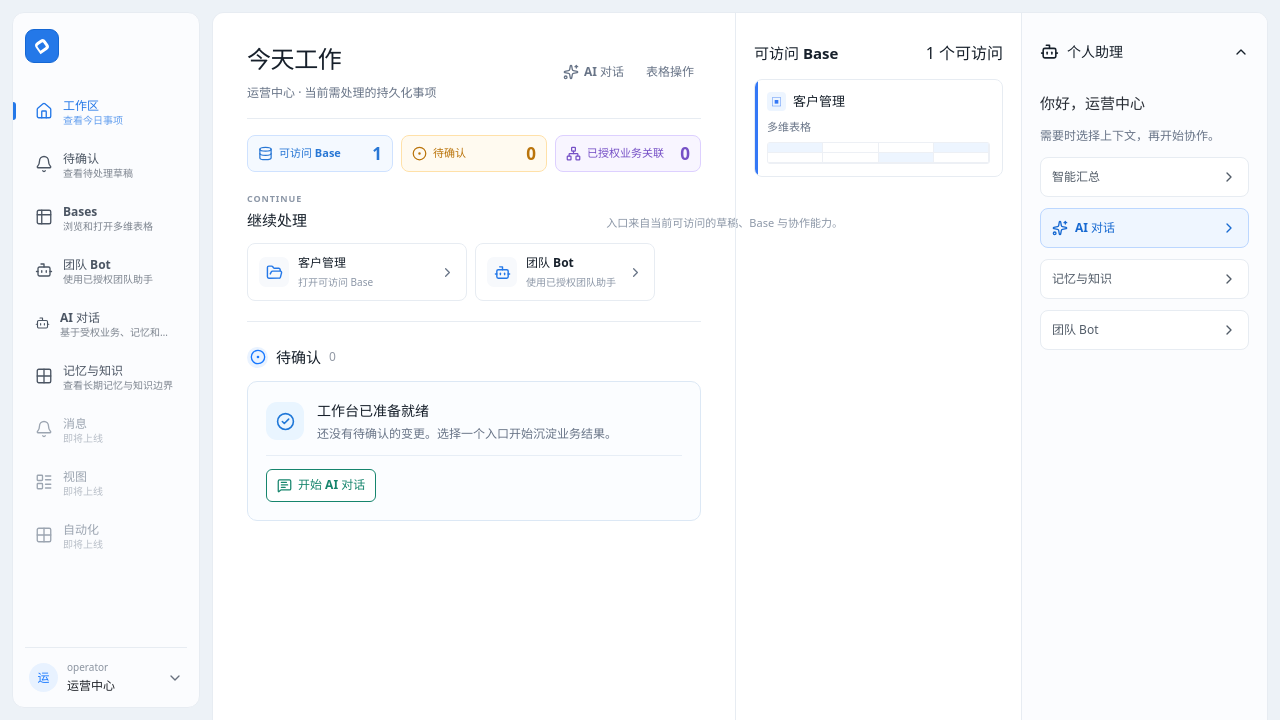
a record version conflict reloads the authoritative detail and current view window
The image size is (1280, 720).
Click the link "▣ 客户管理 多维表格": (878, 128) [754,79,1003,177]
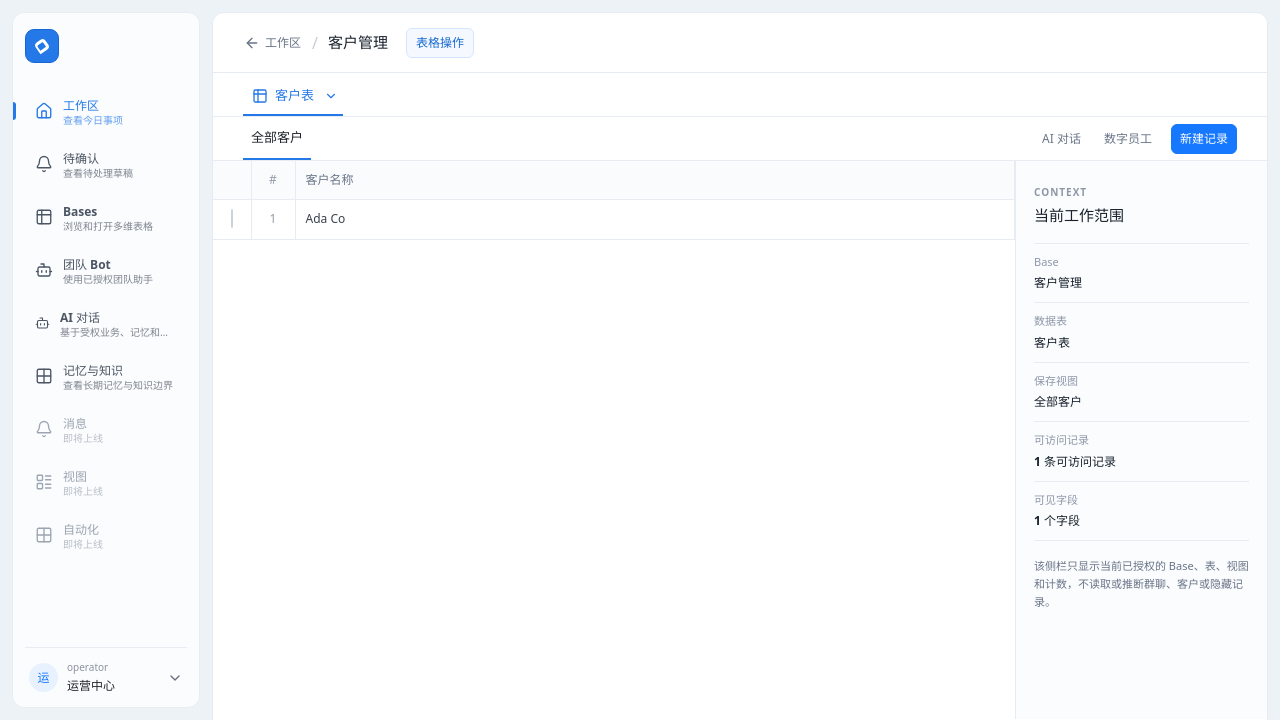
Click the cell "Ada Co": (655, 219) [295,199,1014,239]
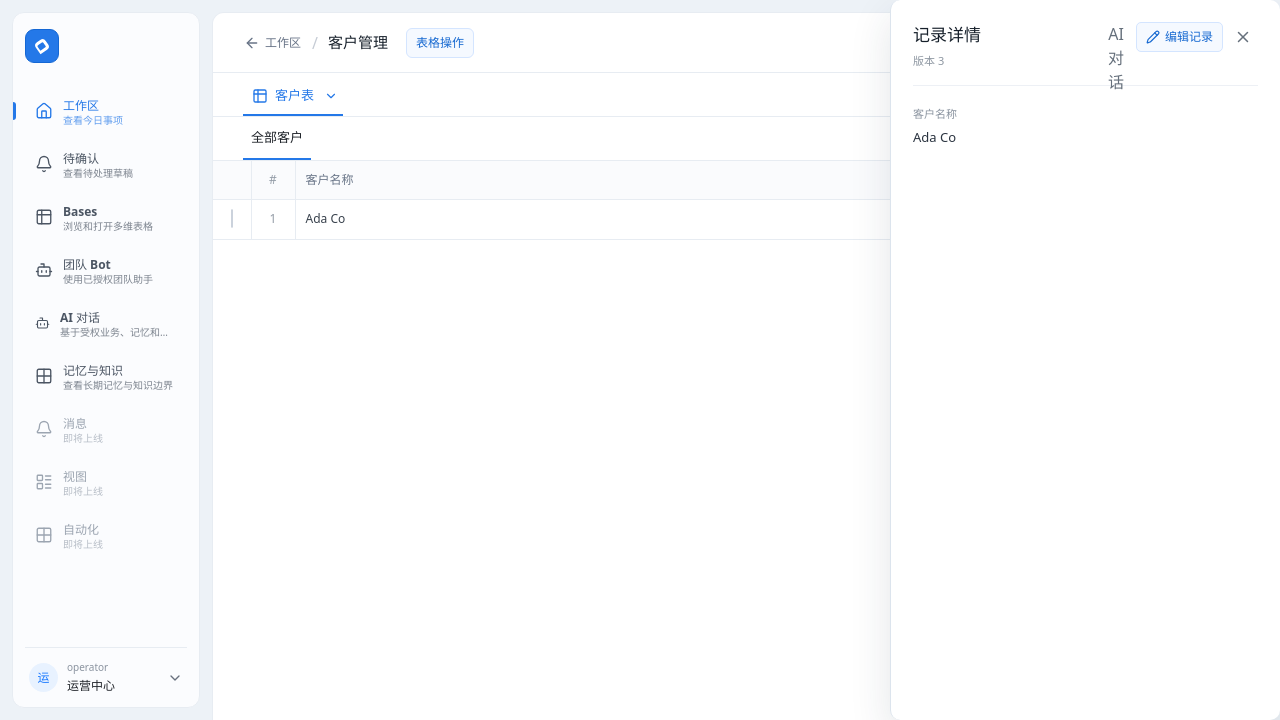
Click the button "编辑记录": (1180, 37) [1136,22,1223,52]
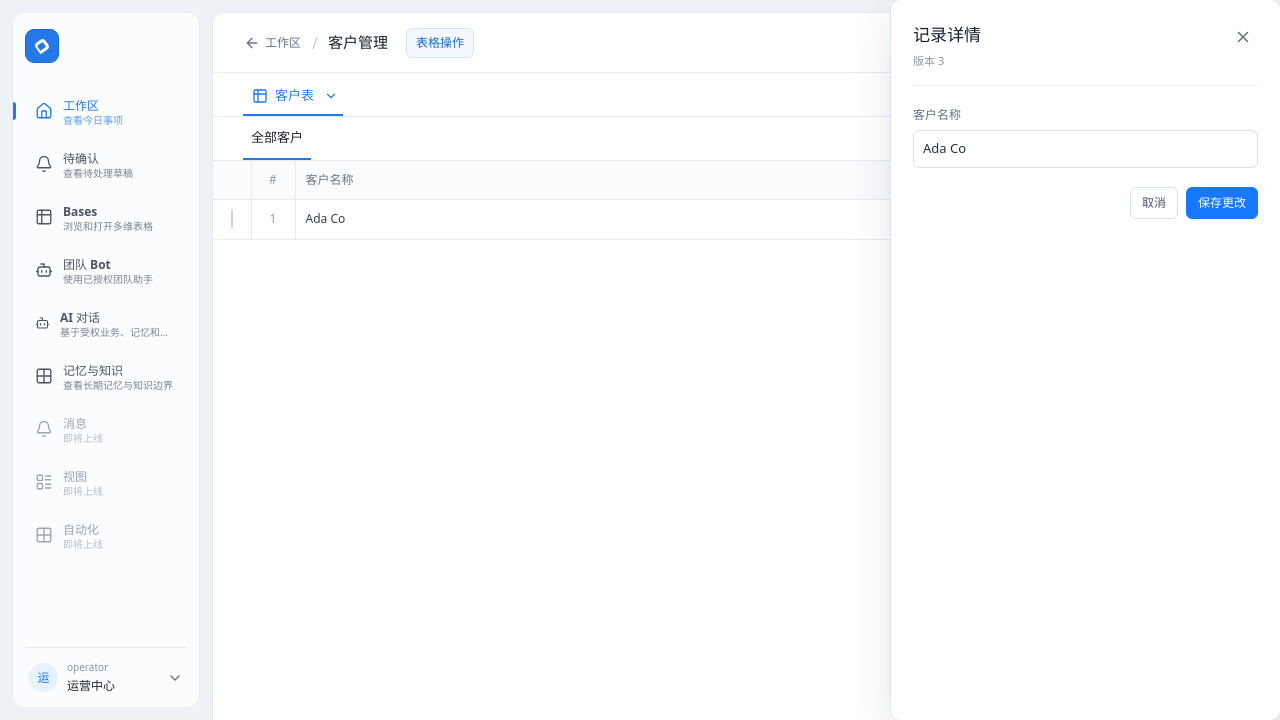
Replace the text in the field labelled "客户名称" with "Ada Ltd": (1086, 149) [913,130,1258,168]
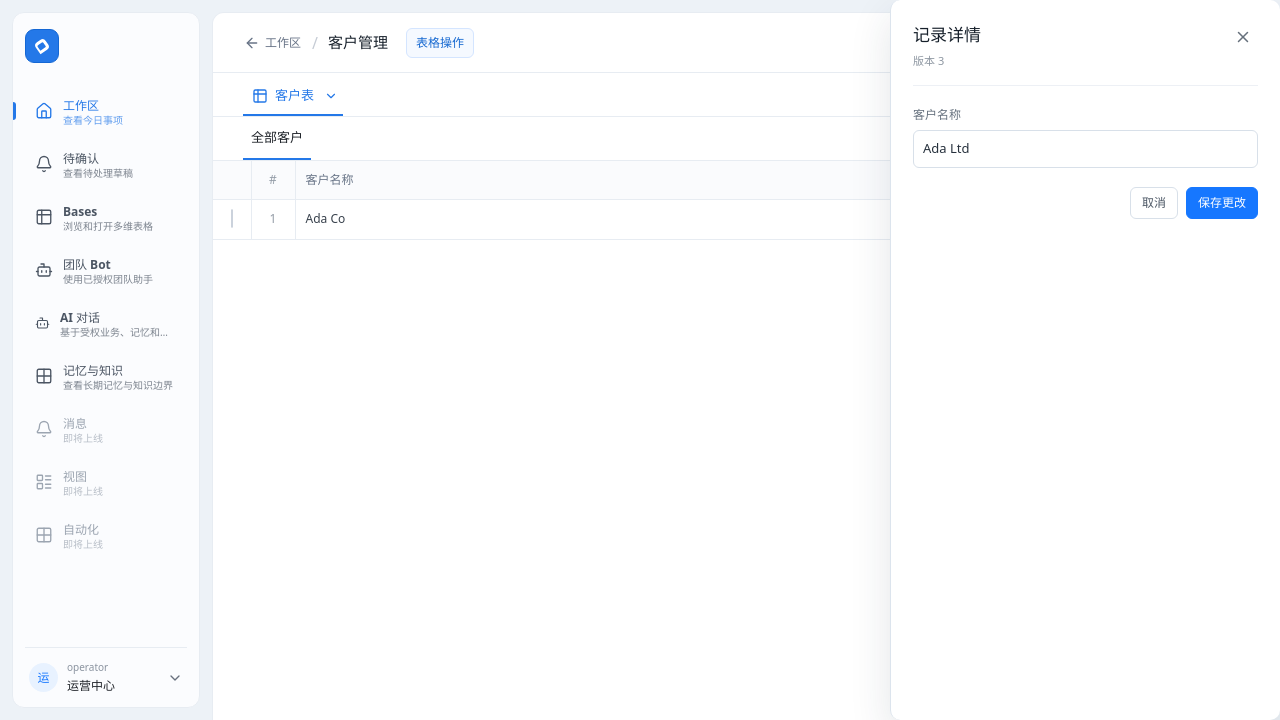
Click the button "保存更改": (1222, 202) [1186,186,1258,218]
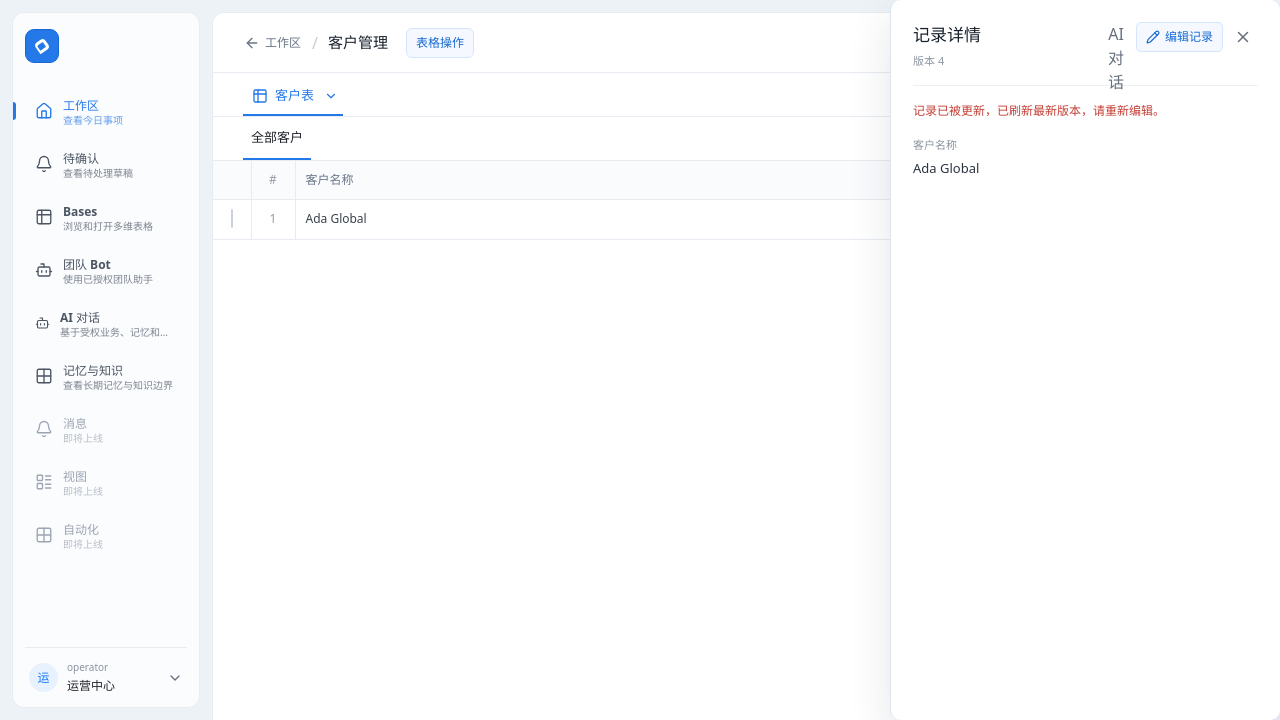
Check: the text "Ada Global" is shown 2 times, box [295,199,1014,239]; [913,158,979,176]
Check: the text "记录已被更新，已刷新最新版本，请重新编辑。" is shown, box [913,102,1165,119]
Check: the text "版本 4" is shown, box [913,52,944,68]
